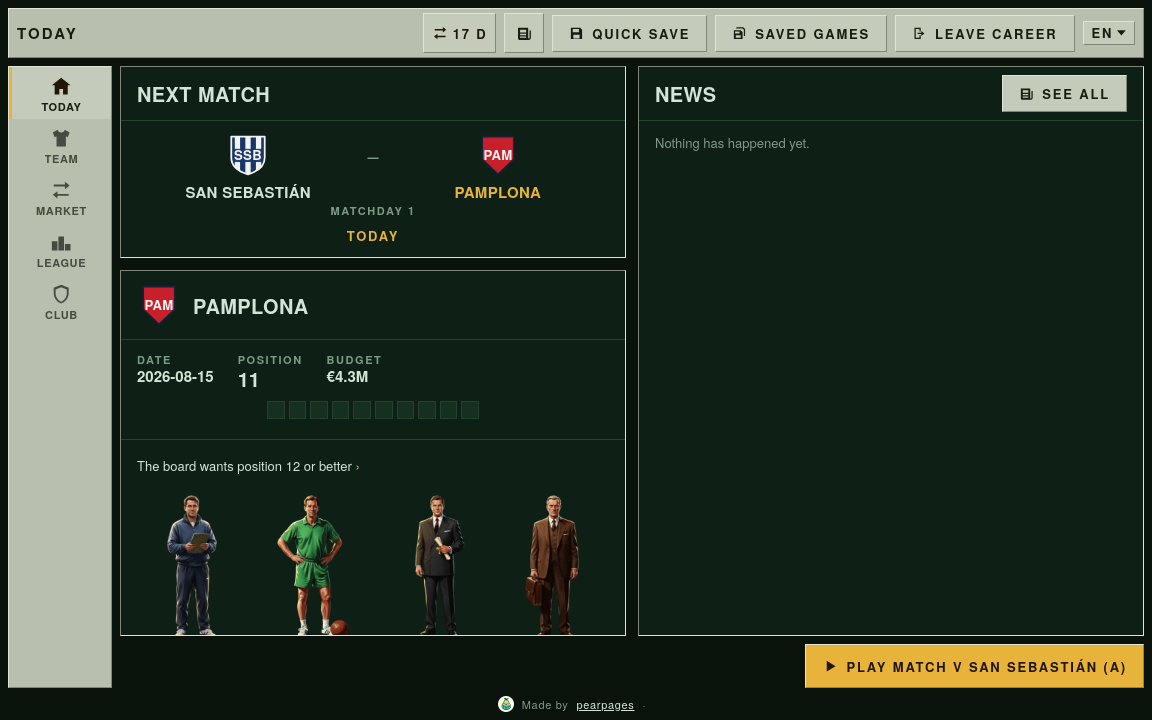
Test: the squad screen › says what each player is worth
Click the button "Team": (60,145) left=9, top=119, right=111, bottom=171
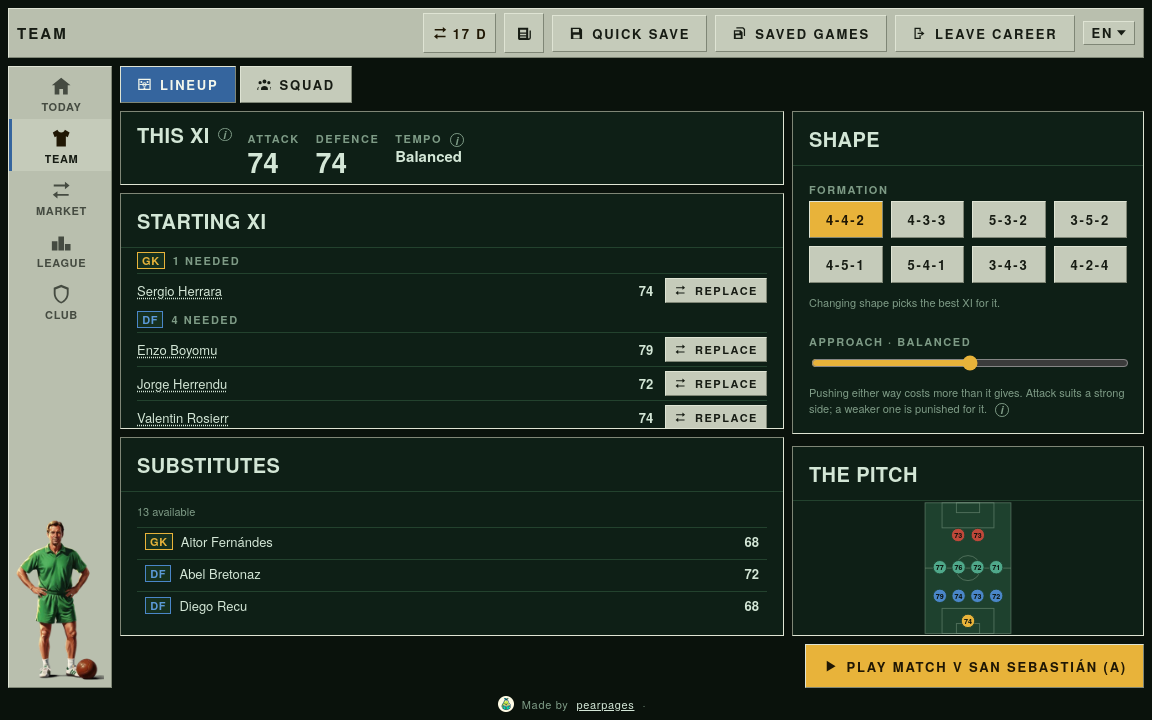
Click the button "Squad": (296,84) left=240, top=66, right=352, bottom=103
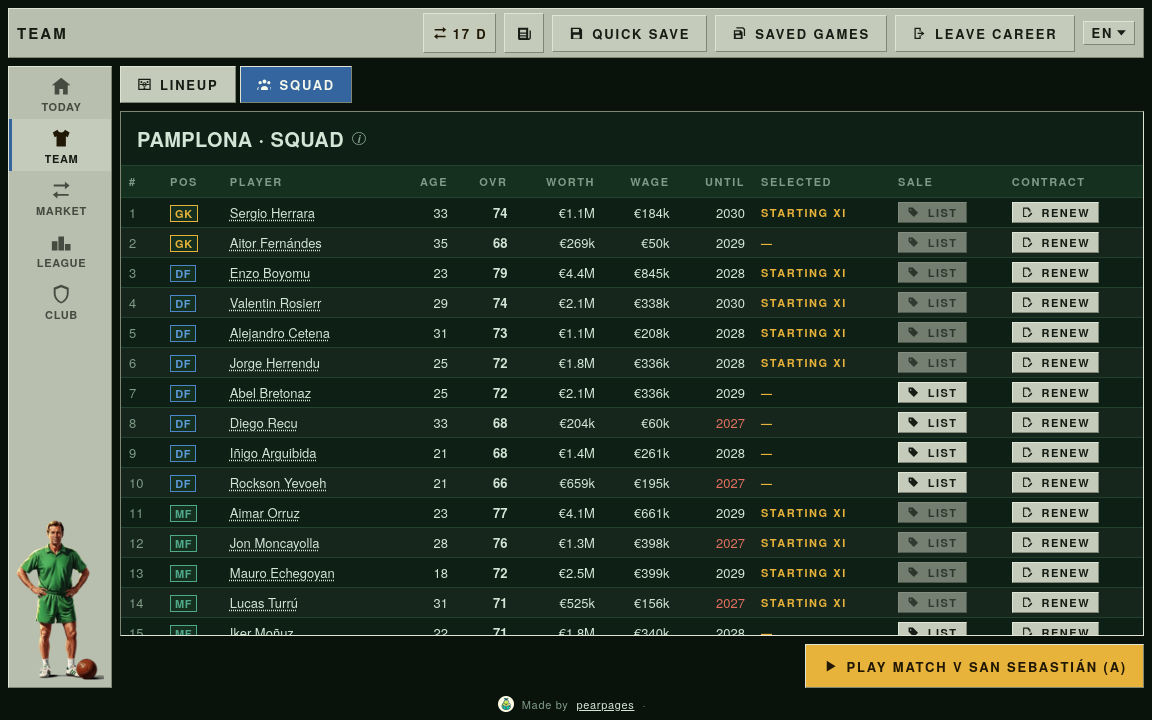
Expected: the button "Worth" is shown, left=546, top=174, right=595, bottom=189
Expected: the text "€1.1M" is shown, left=515, top=198, right=603, bottom=228
